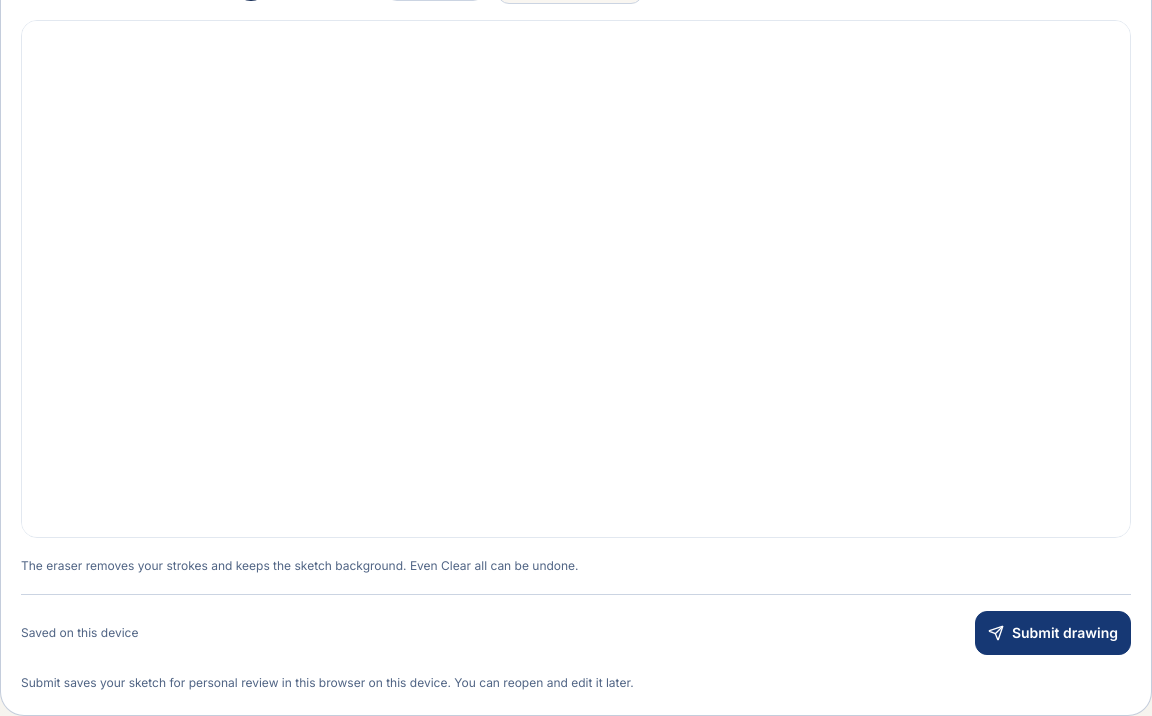
it: sketch paper interaction › confirms Submit only after saving, then permits editing the sketch
Earlier steps of the test are not shown.
(page scrolled)
Step 1. Click the button "Submit drawing" → x=1053, y=633, box 975,611 -> 1131,655
(page scrolled)
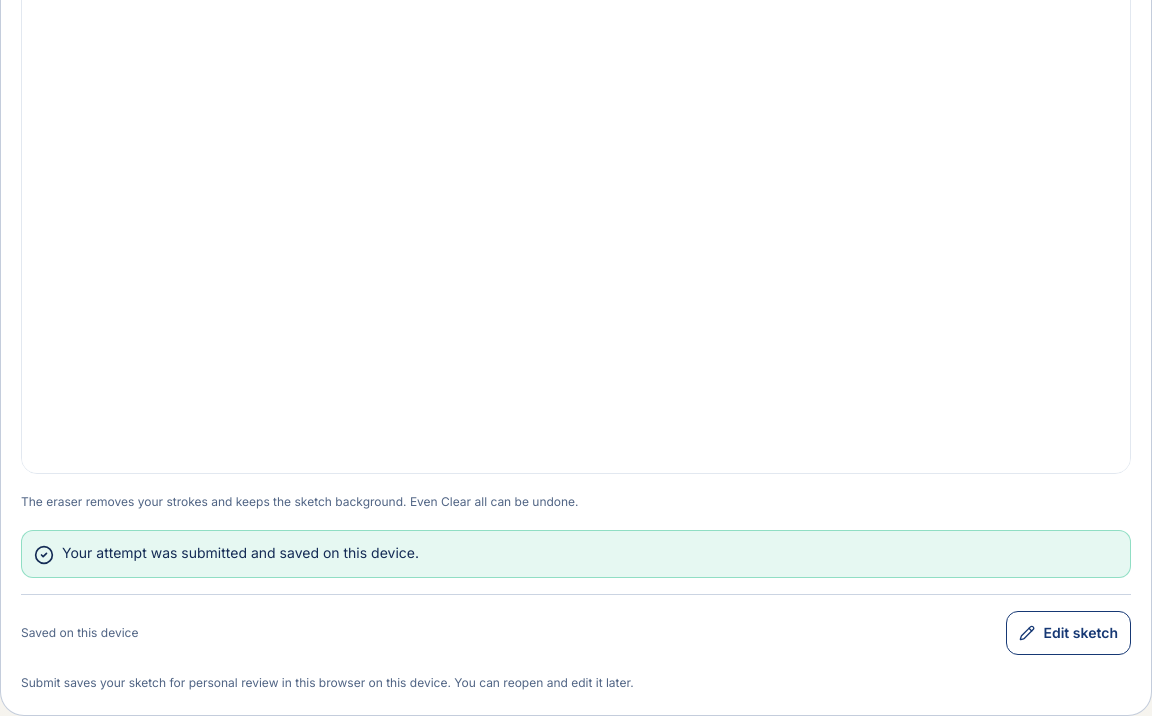
Expected: the text "Your attempt was submitted and saved on this device." is shown, 21,530 -> 1131,578
Step 2. Click the button "Edit sketch" → x=1069, y=633, box 1006,611 -> 1131,655
(page scrolled)
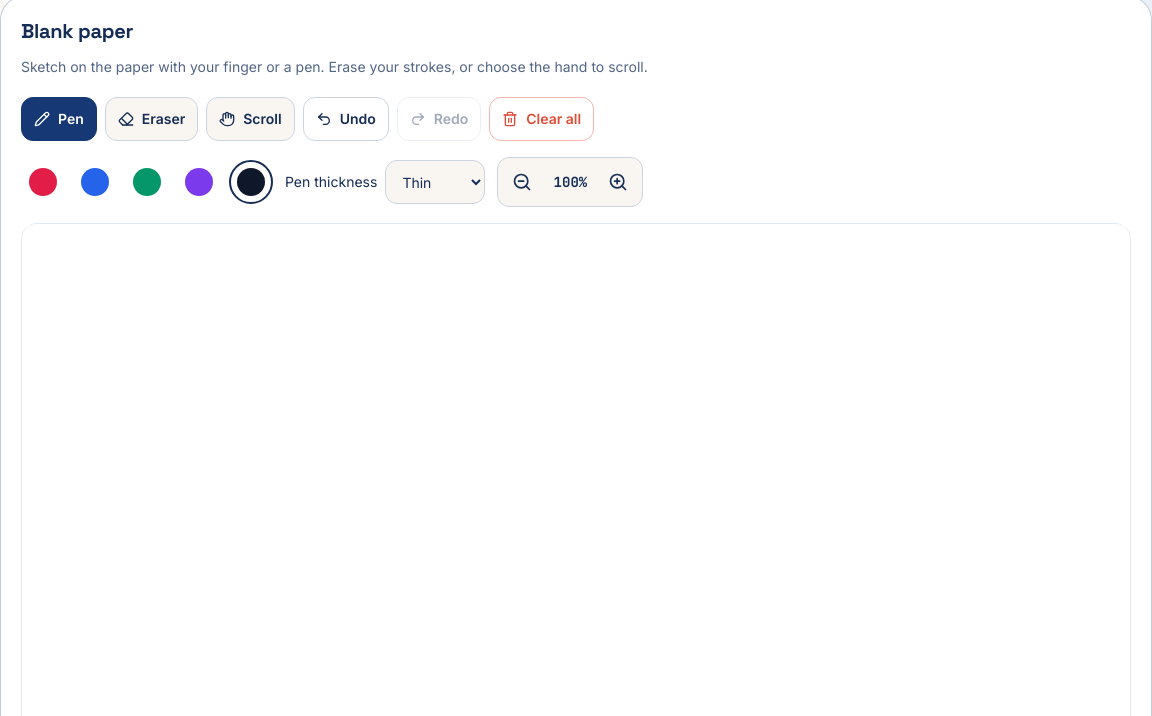
Expected: the button "Pen" is enabled, 21,97 -> 97,141
